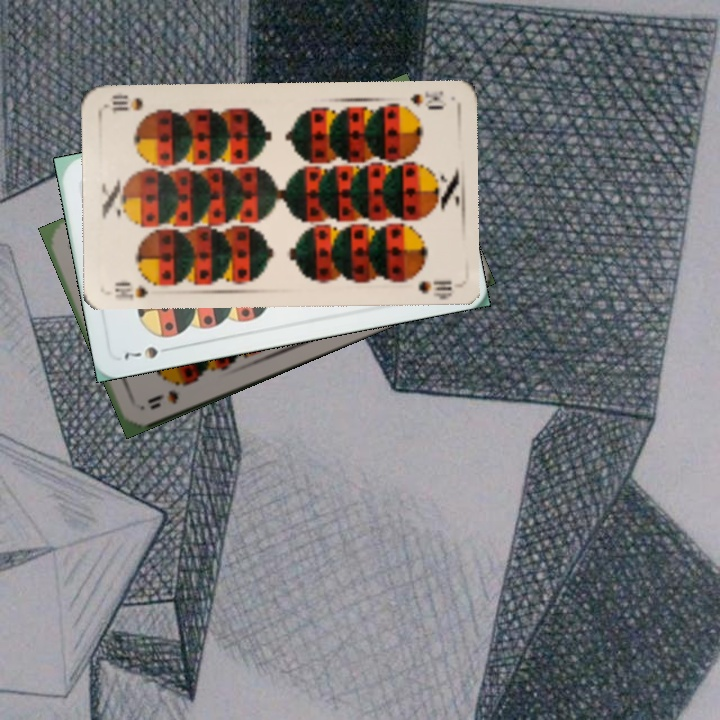S10: (111, 275, 165, 303), (406, 86, 446, 113)
S7: (119, 342, 176, 362)
S9: (143, 377, 194, 413)
